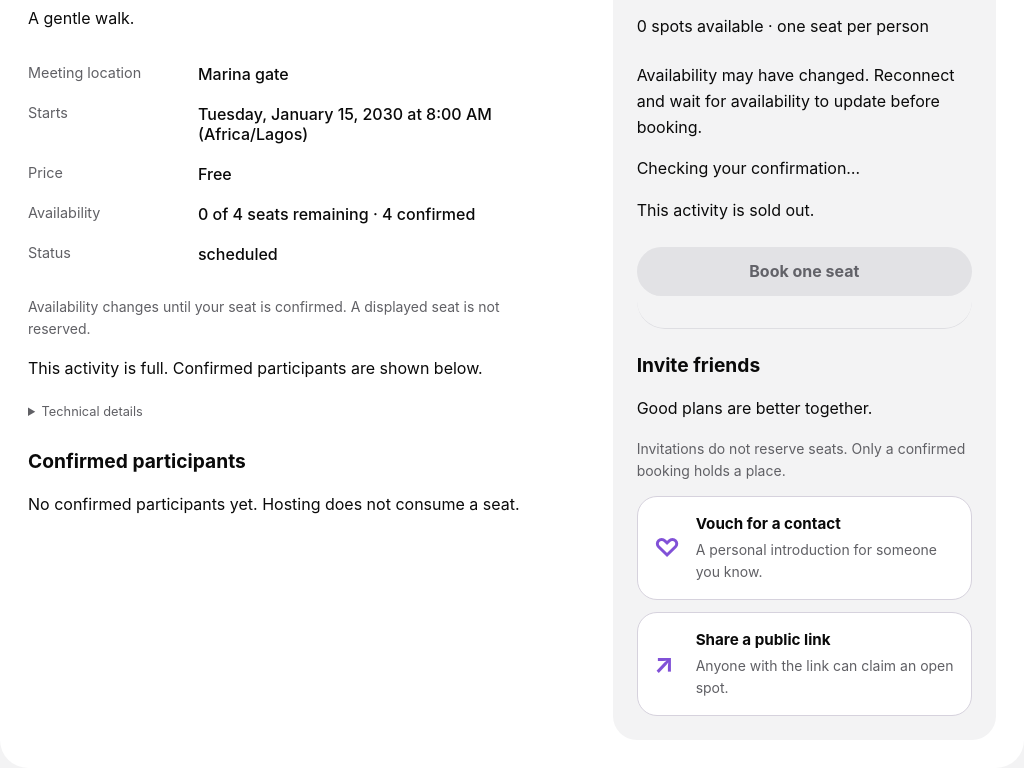
a full activity explains why it cannot be shared
(page scrolled)
Click the button "Share a public link": (804, 664) [637, 612, 972, 716]
(page scrolled)
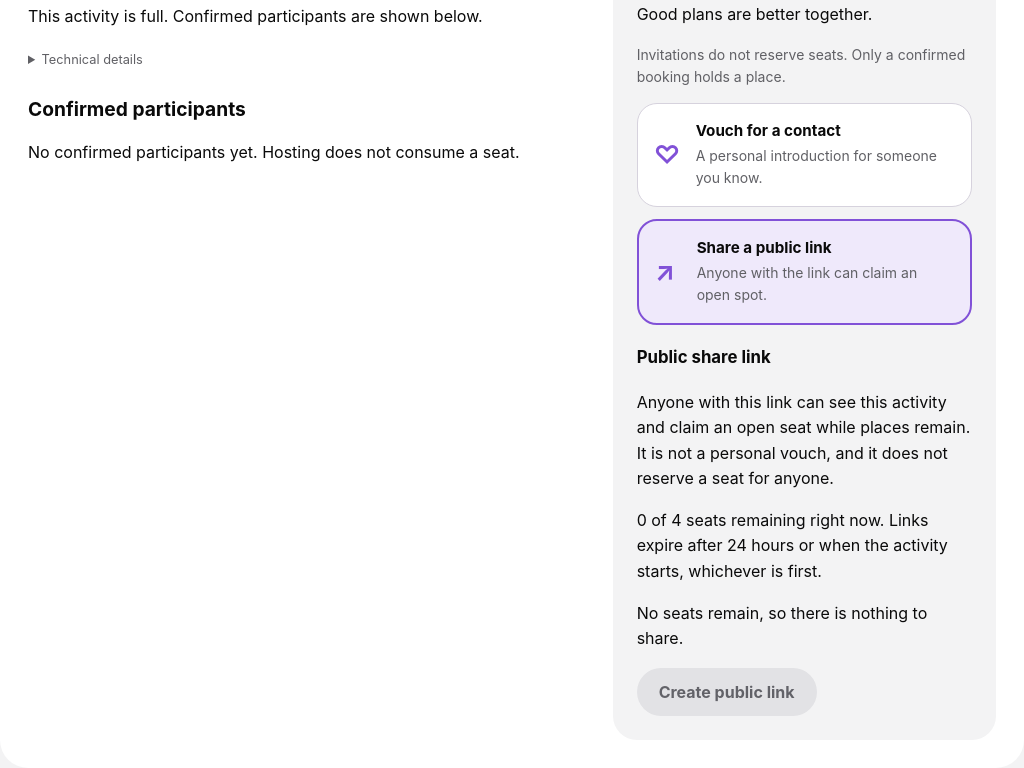
Now the text "No seats remain, so there is nothing to share." is shown, box [637, 601, 972, 652]
Now the button "Create public link" is disabled, box [637, 668, 817, 716]
